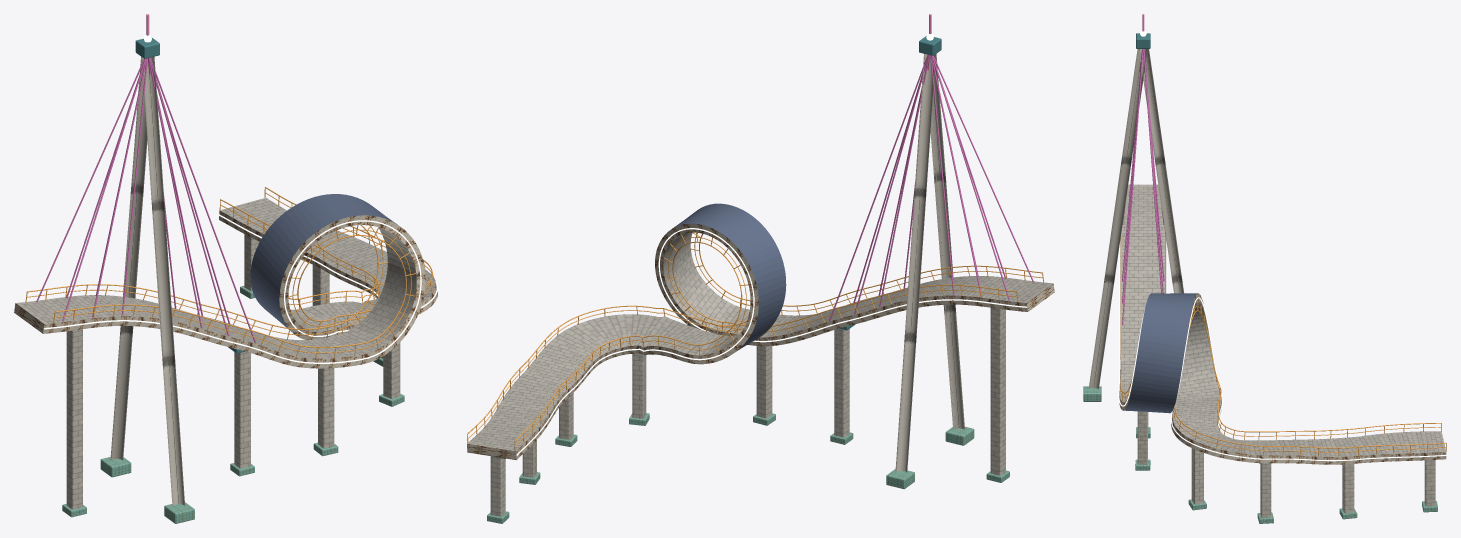
The model's file is Mock_D_Loop_C.glb.
3 renders of one model, left to right at view 1: azimuth 30°, elevation 25°; view 2: azimuth 150°, elevation 25°; view 3: azimuth 270°, elevation 25°, orthographic. The views are drawn at different scales.
Visible parts, largest first — view 1: Mock_D_Loop_C_Deck, Mock_D_Loop_C_T0_Foot-1, Mock_D_Loop_C_Neon-1; view 2: Mock_D_Loop_C_Deck, Mock_D_Loop_C_T0_Foot-1, Mock_D_Loop_C_Neon-1; view 3: Mock_D_Loop_C_Deck, Mock_D_Loop_C_Neon-1, Mock_D_Loop_C_T0_Foot-1.
Part boxes in pixels (x1,y1,x2,y2): Mock_D_Loop_C_Deck: (14,37,437,509); Mock_D_Loop_C_T0_Foot-1: (62,286,404,523); Mock_D_Loop_C_Neon-1: (14,35,437,363); Mock_D_Loop_C_Deck: (467,36,1054,516); Mock_D_Loop_C_T0_Foot-1: (487,413,1009,523); Mock_D_Loop_C_Neon-1: (466,33,1054,455); Mock_D_Loop_C_Deck: (1088,33,1446,517); Mock_D_Loop_C_Neon-1: (1118,30,1446,461); Mock_D_Loop_C_T0_Foot-1: (1083,386,1437,523).
Bounding box in the file's own units: 46 × 45.87 × 39.3.
6 materials, 3 textured.
